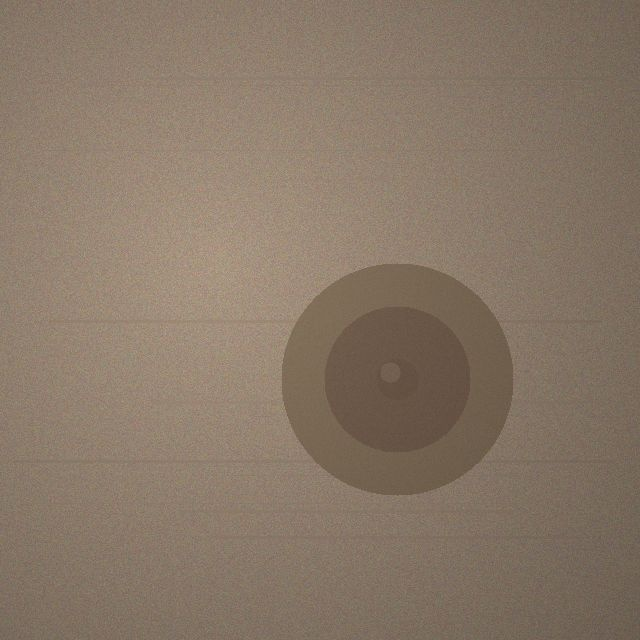good: (281, 263, 513, 495)
